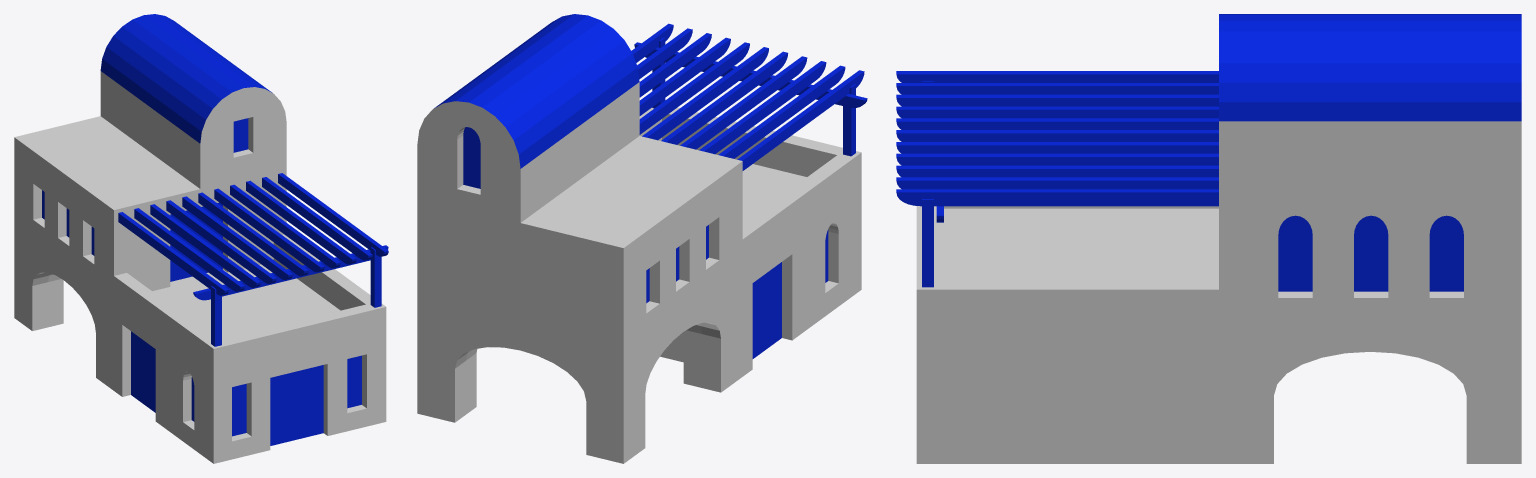
Rendered from SM_Module8_001.fbx.
3 renders of one model, left to right at view 1: azimuth 30°, elevation 25°; view 2: azimuth 150°, elevation 25°; view 3: azimuth 270°, elevation 25°, orthographic. The views are drawn at different scales.
Visible parts, largest first — view 1: 1DF2WF1DS1WS.001, 1DF3WBS.001, 1WF1WB.011, ARRAY.178, Terrasse.003, BigArches.009, Door.064, Door.065, Door.066, ARRAY.177, WIndow2.125, WIndow2.126 (+3 smaller); view 2: 1DF3WBS.001, 1WF1WB.011, BigArches.009, ARRAY.178, 1DF2WF1DS1WS.001, Terrasse.003, Door.065, Window3.125, ARRAY.177, ARRAY.175; view 3: 1DF2WF1DS1WS.001, 1WF1WB.011, ARRAY.178, 1DF3WBS.001, BigArches.009, Terrasse.003, Window3.124, ARRAY.176.
Boxes of the visible parts, x1=… form: 1DF2WF1DS1WS.001: x1=114, y1=264, x2=386, y2=463; 1DF3WBS.001: x1=14, y1=116, x2=286, y2=300; 1WF1WB.011: x1=100, y1=14, x2=286, y2=188; ARRAY.178: x1=118, y1=173, x2=388, y2=295; Terrasse.003: x1=114, y1=234, x2=386, y2=373; BigArches.009: x1=14, y1=228, x2=113, y2=390; Door.064: x1=270, y1=365, x2=323, y2=445; Door.065: x1=131, y1=331, x2=155, y2=412; Door.066: x1=170, y1=202, x2=222, y2=281; ARRAY.177: x1=193, y1=245, x2=388, y2=300; WIndow2.125: x1=232, y1=383, x2=246, y2=436; WIndow2.126: x1=347, y1=355, x2=361, y2=408; 1DF3WBS.001: x1=417, y1=136, x2=742, y2=355; 1WF1WB.011: x1=417, y1=14, x2=639, y2=222; BigArches.009: x1=417, y1=269, x2=742, y2=463; ARRAY.178: x1=631, y1=23, x2=864, y2=170; 1DF2WF1DS1WS.001: x1=660, y1=164, x2=861, y2=376; Terrasse.003: x1=639, y1=107, x2=861, y2=268; Door.065: x1=752, y1=262, x2=781, y2=358; Window3.125: x1=463, y1=127, x2=480, y2=188; ARRAY.177: x1=634, y1=42, x2=867, y2=107; ARRAY.175: x1=843, y1=84, x2=855, y2=156; 1DF2WF1DS1WS.001: x1=916, y1=208, x2=1218, y2=463; 1WF1WB.011: x1=1219, y1=14, x2=1521, y2=189; ARRAY.178: x1=896, y1=71, x2=1218, y2=206; 1DF3WBS.001: x1=1219, y1=190, x2=1521, y2=326; BigArches.009: x1=1219, y1=327, x2=1521, y2=463; Terrasse.003: x1=916, y1=206, x2=1218, y2=326; Window3.124: x1=1278, y1=215, x2=1463, y2=291; ARRAY.176: x1=922, y1=199, x2=933, y2=287.
Bounding box in the file's own units: 558 × 750 × 1033.
